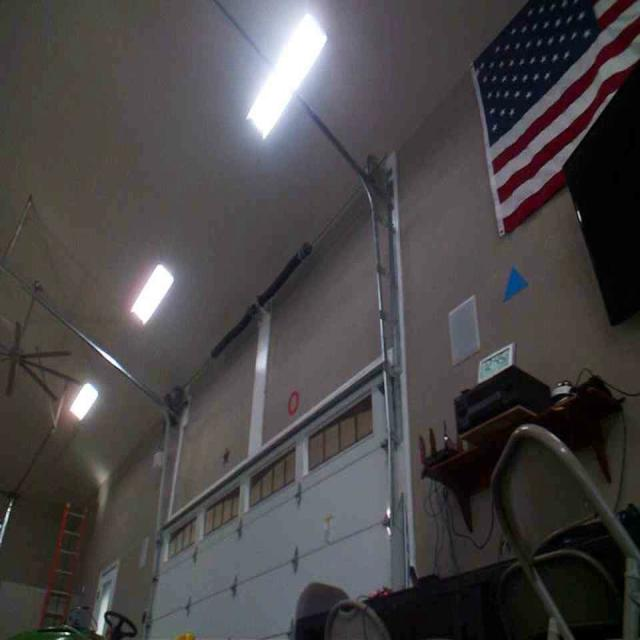ring_red: (285, 389, 299, 415)
star_black: (219, 444, 233, 465)
triangle_blue: (501, 264, 527, 304)
